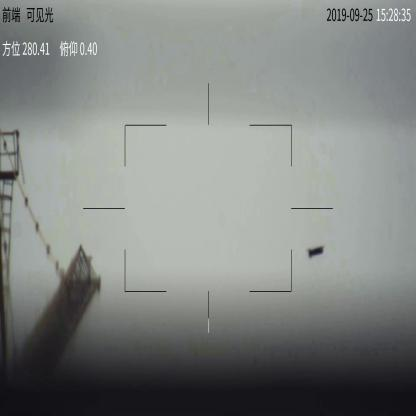uav: (308, 247, 324, 258)
